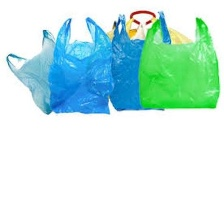plastic_bag: (138, 14, 223, 110), (46, 7, 115, 123), (107, 9, 173, 113), (4, 23, 71, 120)
